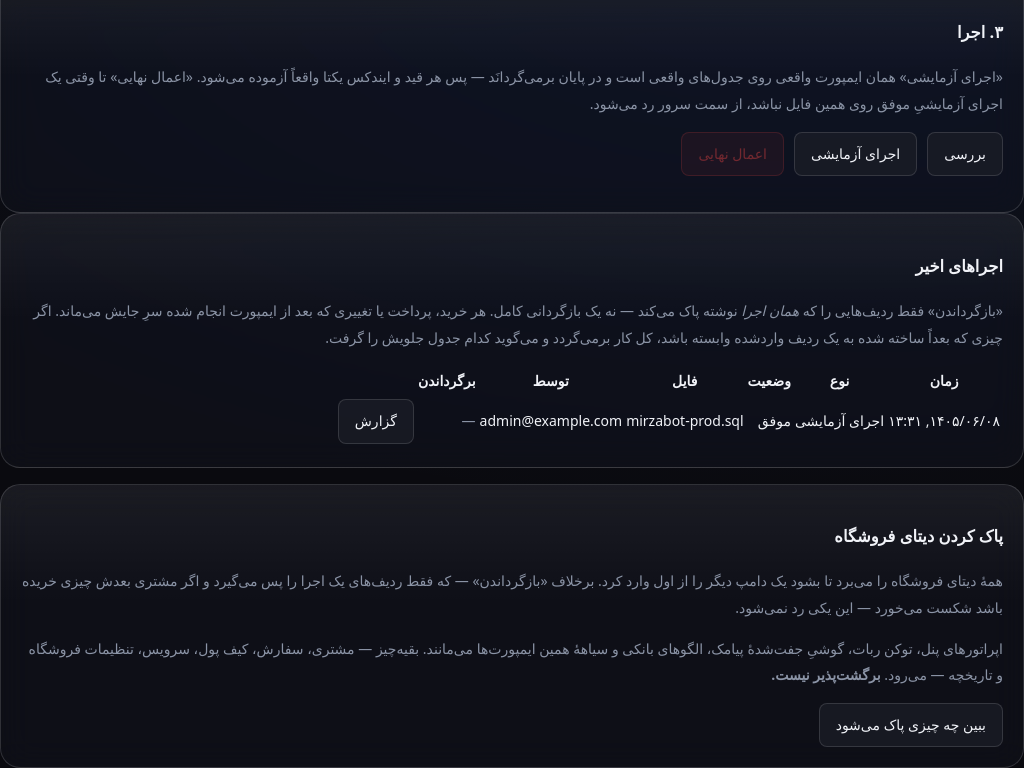
Test case: saying what the import is doing › says nothing when an already-finished run is opened from the table
(page scrolled)
Step 1. Click the button "گزارش" → {"x": 376, "y": 421}, box [338,399,414,444]
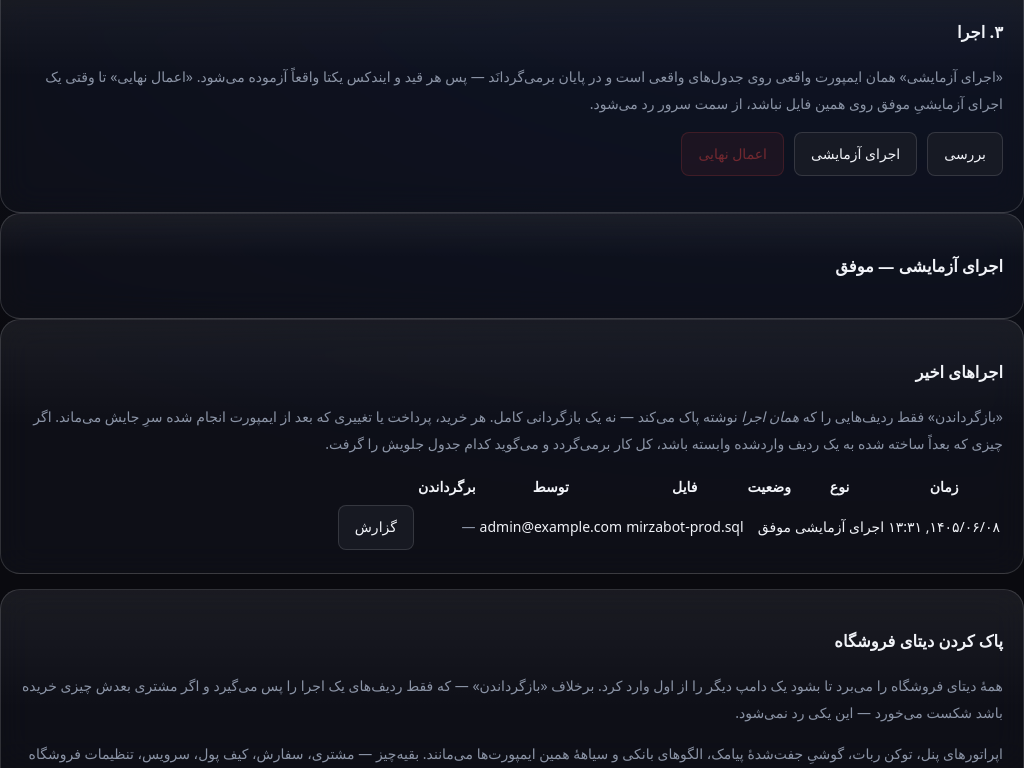
Result: the heading "اجرای آزمایشی — موفق" is shown at [835,255,1003,277]
